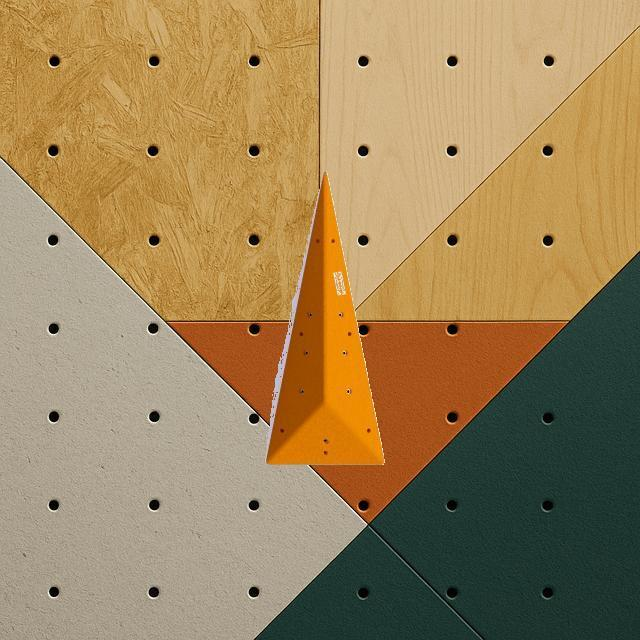Volume: (262, 170, 388, 466)
